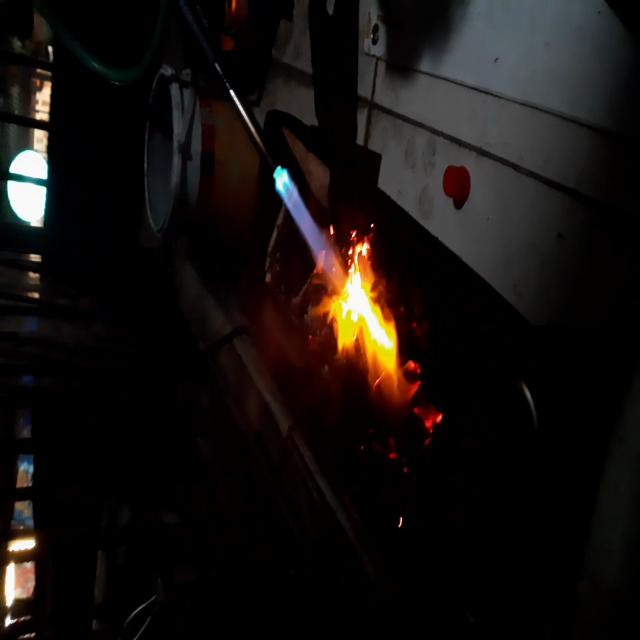Fire: (320, 237, 400, 408), (396, 346, 445, 450), (274, 155, 320, 264), (268, 298, 314, 392)
